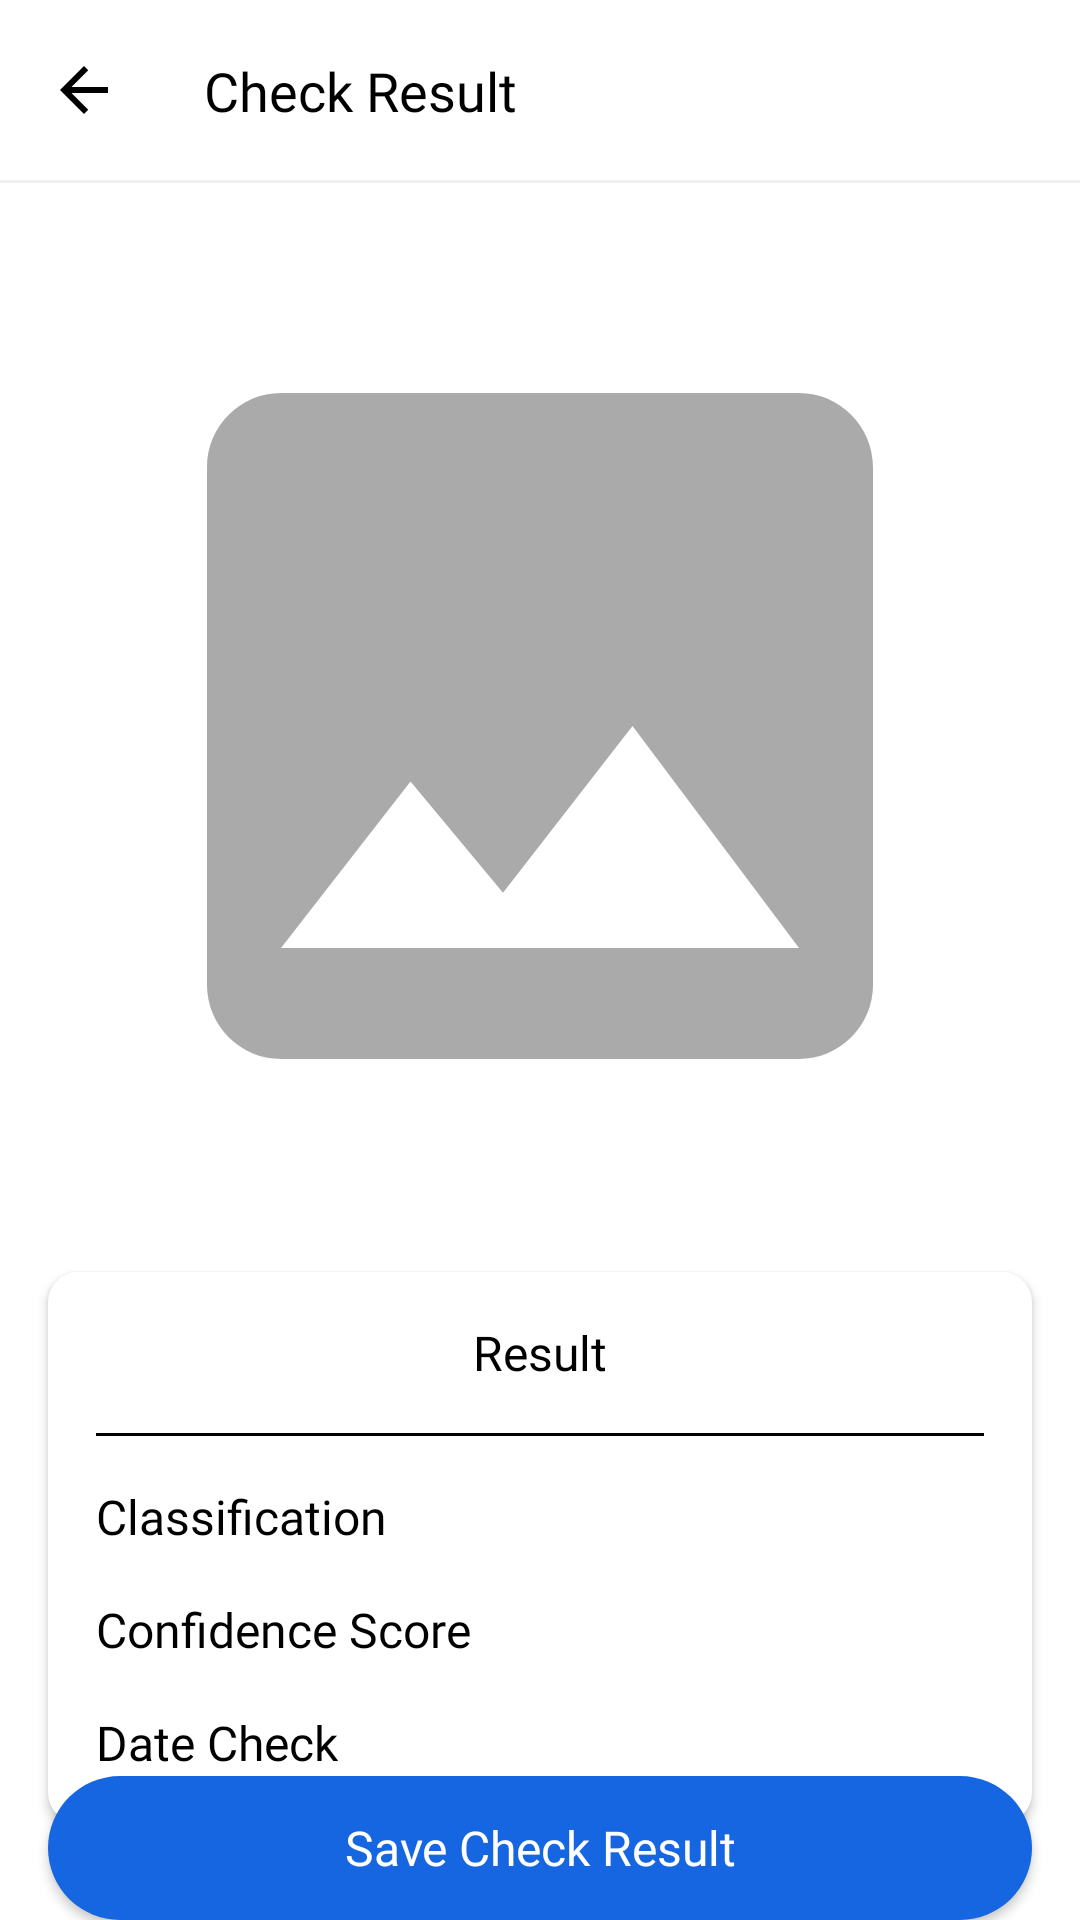

Where icons sit on this 1080px x 1920px app screen, as [x1=x1, y1=y1, x2=x2, y2=y2]:
Back Button: [x1=60, y1=66, x2=108, y2=114]
